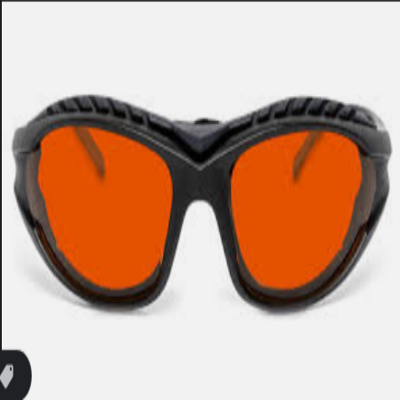glasses: (12, 88, 392, 321)
